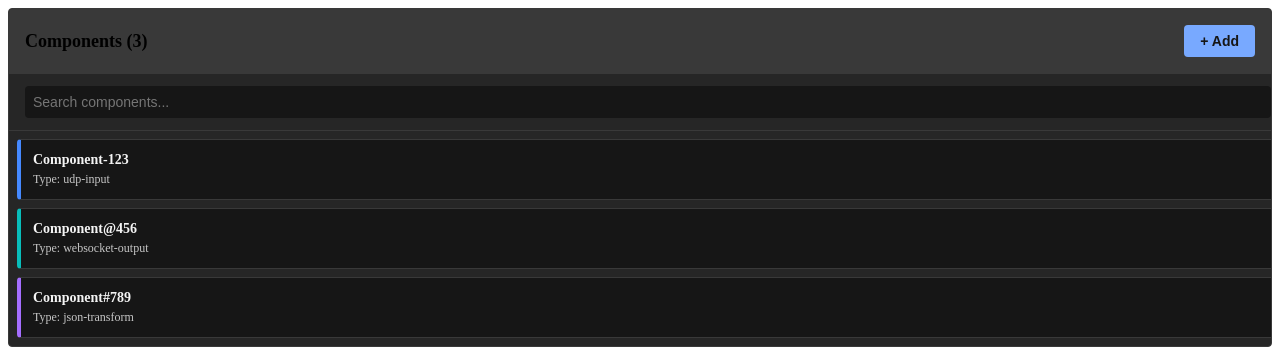
it: ComponentList › edge cases › should handle special characters in search
The width and height of the screenshot is (1280, 364).
Type "@456" into the field with placeholder "Search components...". click: (648, 102)
box: [25,86,1271,118]
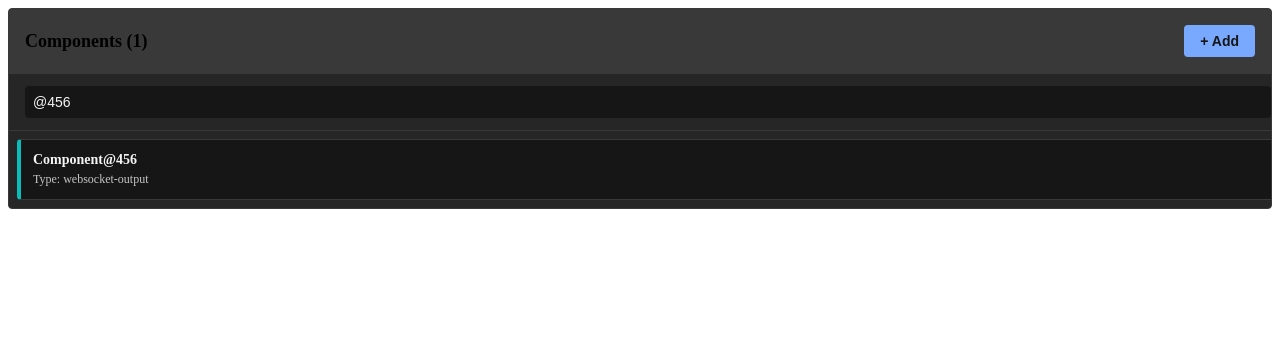
Expected: the heading "Component@456" is shown, [33,152,137,168]
Expected: the button "Component-123" is gone
